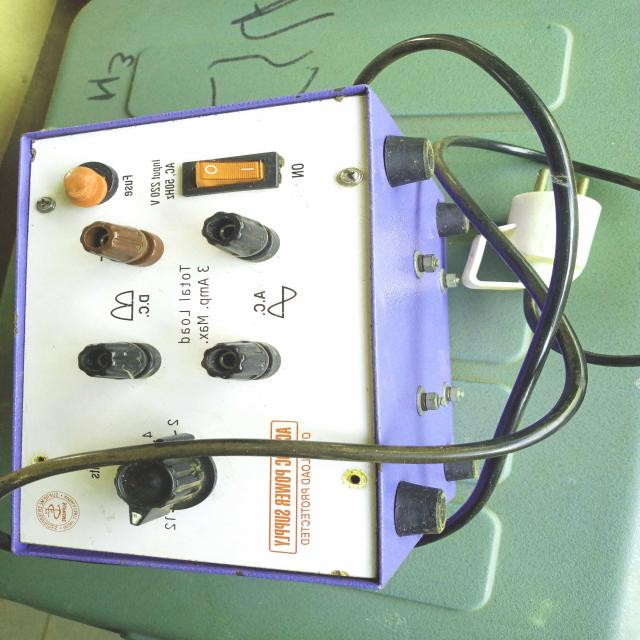AC and DC Power Supply 12 V: (1, 89, 465, 586)
